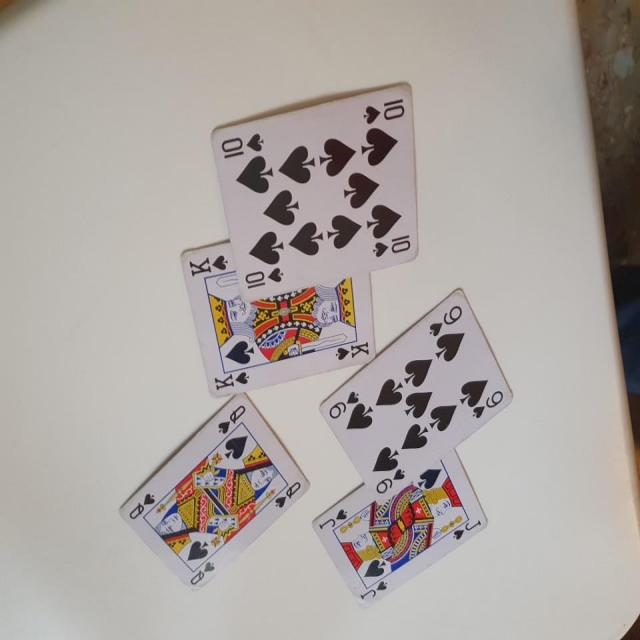10 Spades: (206, 78, 431, 297)
9 Spades: (308, 278, 516, 505)
J Spades: (312, 449, 501, 628)
K Spades: (183, 207, 378, 405)
Q Spades: (112, 392, 309, 605)
